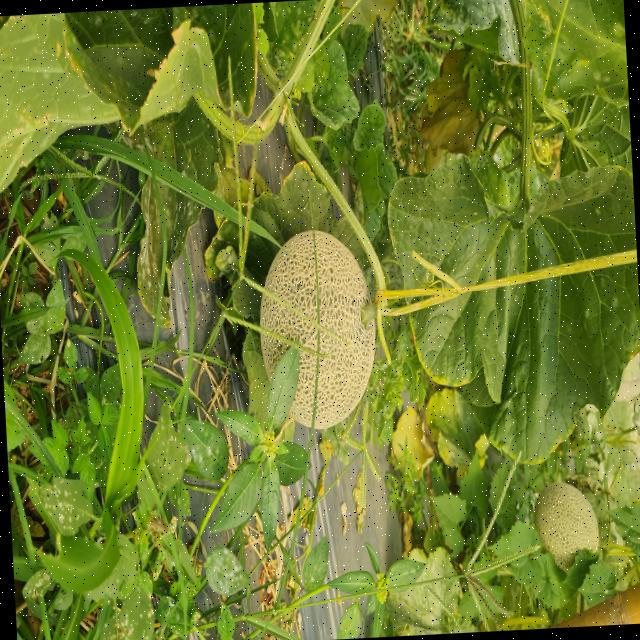melon: (259, 231, 375, 429)
